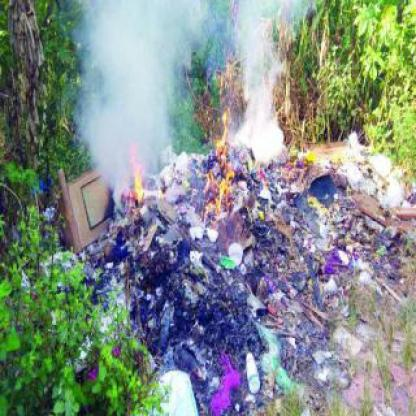fire: (206, 102, 240, 226), (128, 144, 146, 204)
